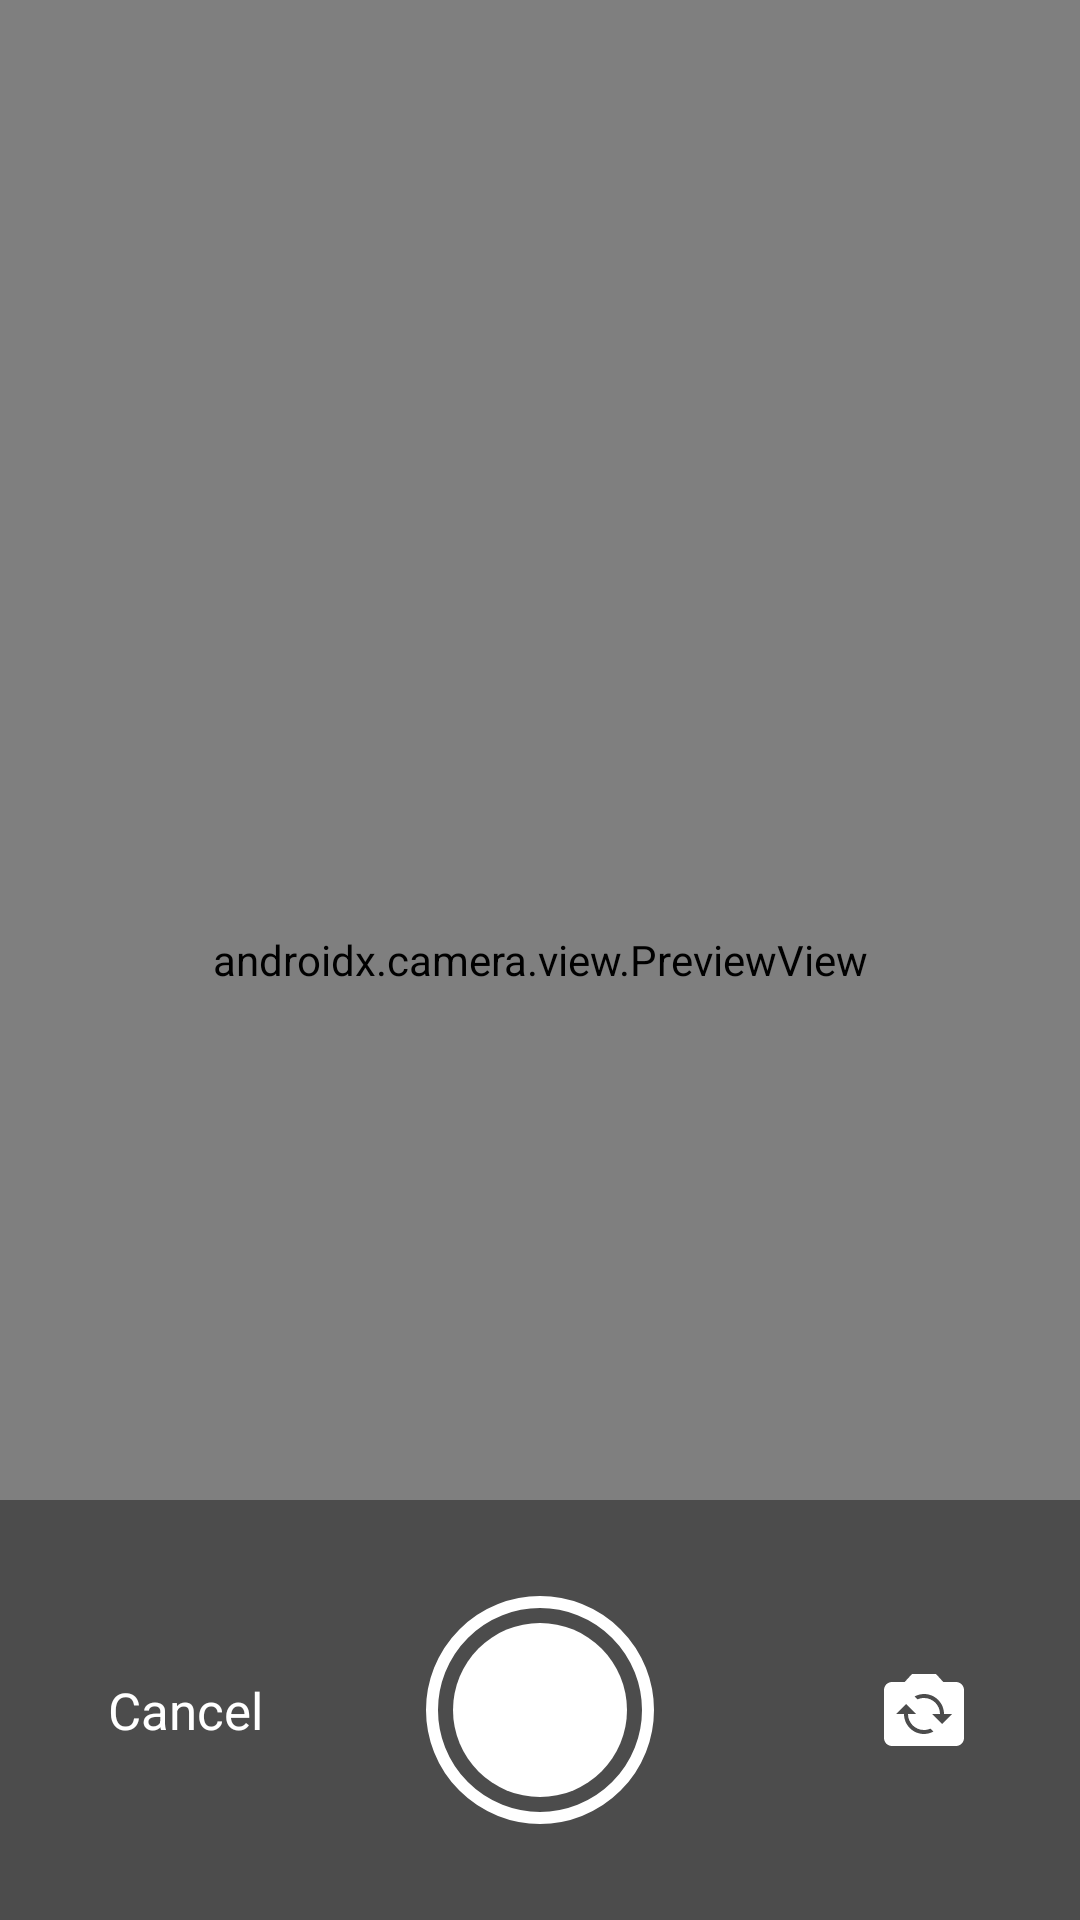

Where to tap for icons on this 1080 x 1920 app screen, as [x,y]:
flip camera: [924,1710]
Take Photo: [540,1710]
